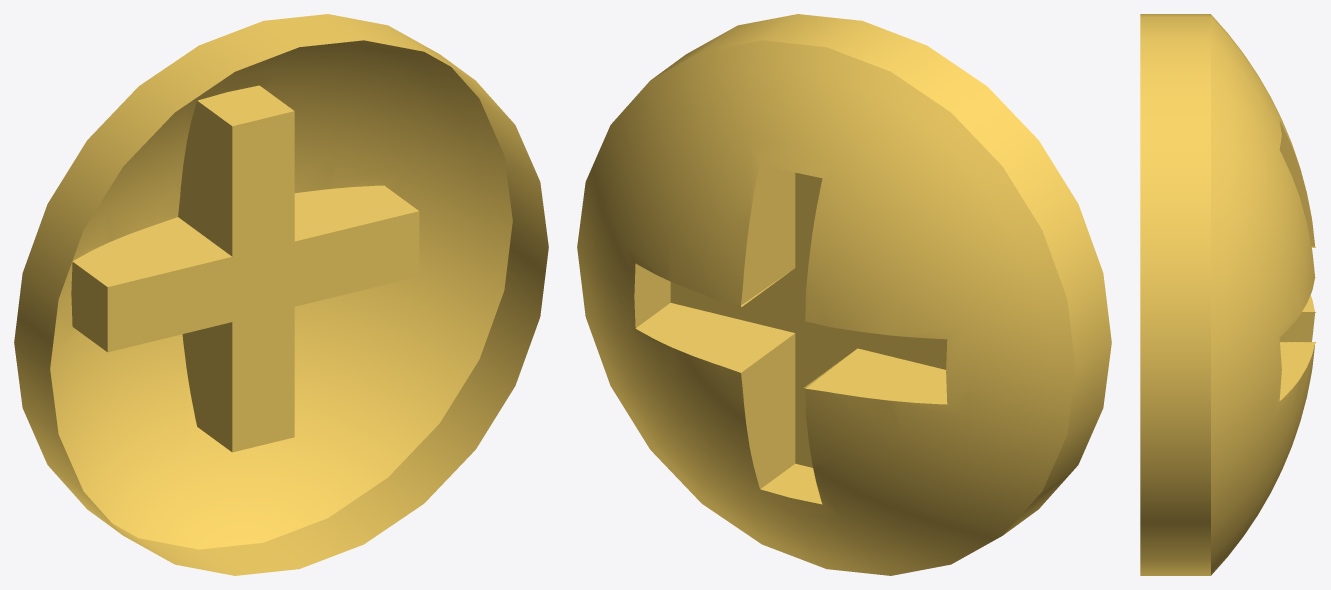
File: original-3.obj
3 views of the same model, side by side, from view 1: azimuth 30°, elevation 25°; view 2: azimuth 150°, elevation 25°; view 3: azimuth 270°, elevation 25° (orthographic). The views are drawn at different scales.
Parts seen in each view (by area): view 1: COMPONENT4/Phillips_Screw_Head/COMPONENT3/Screw_head/mesh2/mesh2; view 2: COMPONENT4/Phillips_Screw_Head/COMPONENT3/Screw_head/mesh2/mesh2; view 3: COMPONENT4/Phillips_Screw_Head/COMPONENT3/Screw_head/mesh2/mesh2.
Part boxes in pixels (x1,y1,x2,y2): COMPONENT4/Phillips_Screw_Head/COMPONENT3/Screw_head/mesh2/mesh2: (14, 14, 548, 575); COMPONENT4/Phillips_Screw_Head/COMPONENT3/Screw_head/mesh2/mesh2: (577, 14, 1111, 575); COMPONENT4/Phillips_Screw_Head/COMPONENT3/Screw_head/mesh2/mesh2: (1140, 14, 1315, 575).
Bounding box in the file's own units: 0.0472 × 0.0472 × 0.0148.
